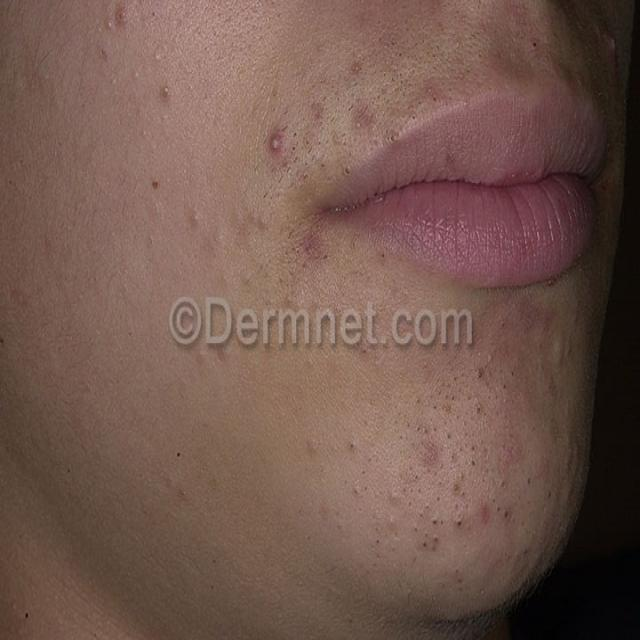Acne: (260, 118, 290, 166), (100, 0, 133, 39), (298, 225, 328, 264), (473, 492, 497, 530), (352, 103, 375, 134)
